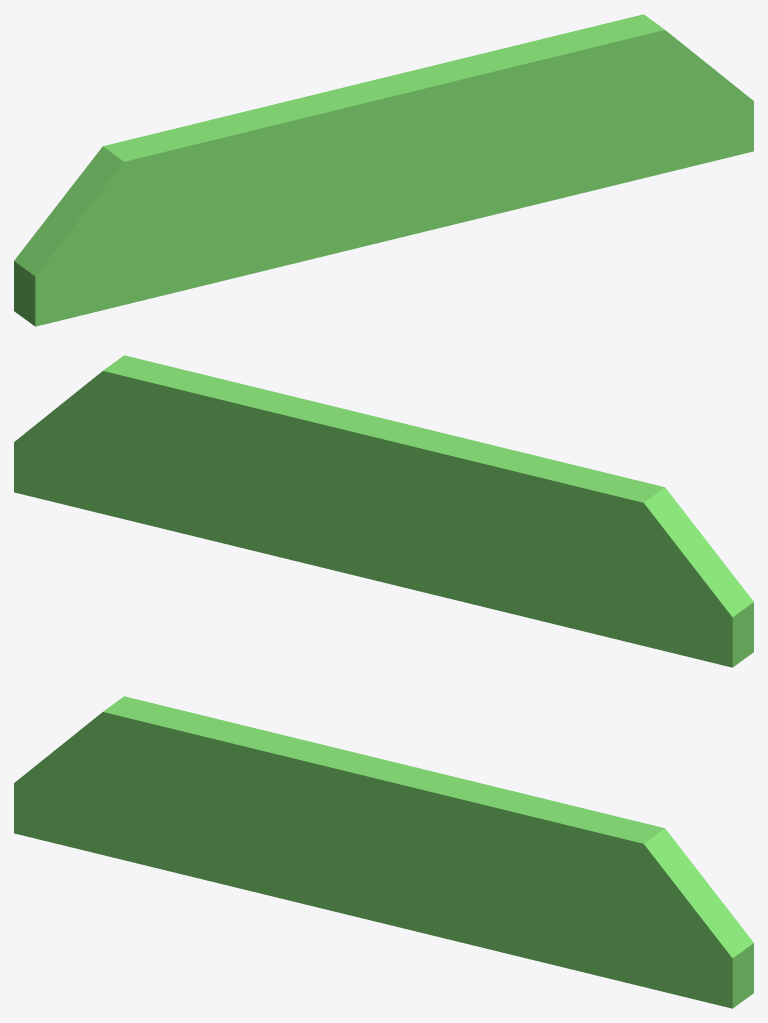
File: sm_Collider4.fbx
3 renders of one model, top to bottom at view 1: azimuth 30°, elevation 25°; view 2: azimuth 150°, elevation 25°; view 3: azimuth 330°, elevation 25°, orthographic.
Visible parts, largest first — view 1: sm_Collider.007; view 2: sm_Collider.007; view 3: sm_Collider.007.
Boxes of the visible parts, x1=… form: sm_Collider.007: x1=14, y1=14, x2=753, y2=326; sm_Collider.007: x1=14, y1=355, x2=753, y2=667; sm_Collider.007: x1=14, y1=696, x2=753, y2=1008.
Size of the model in its own units: 1054 by 201 by 54.26.
